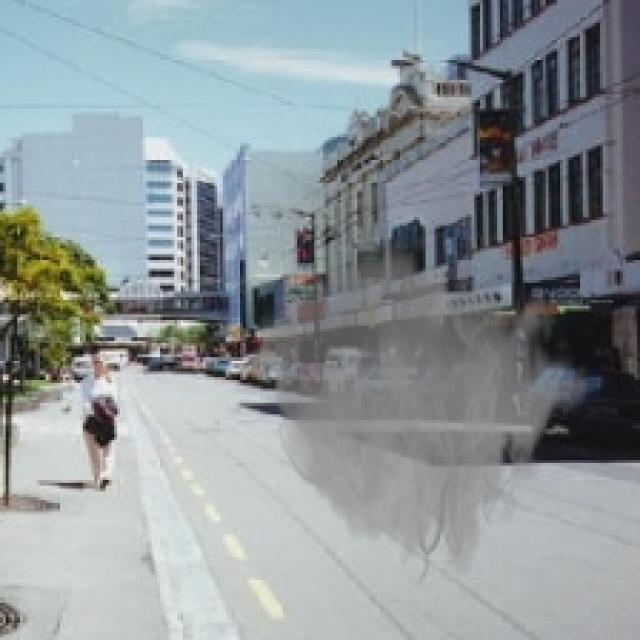smoke: (248, 203, 592, 591)
